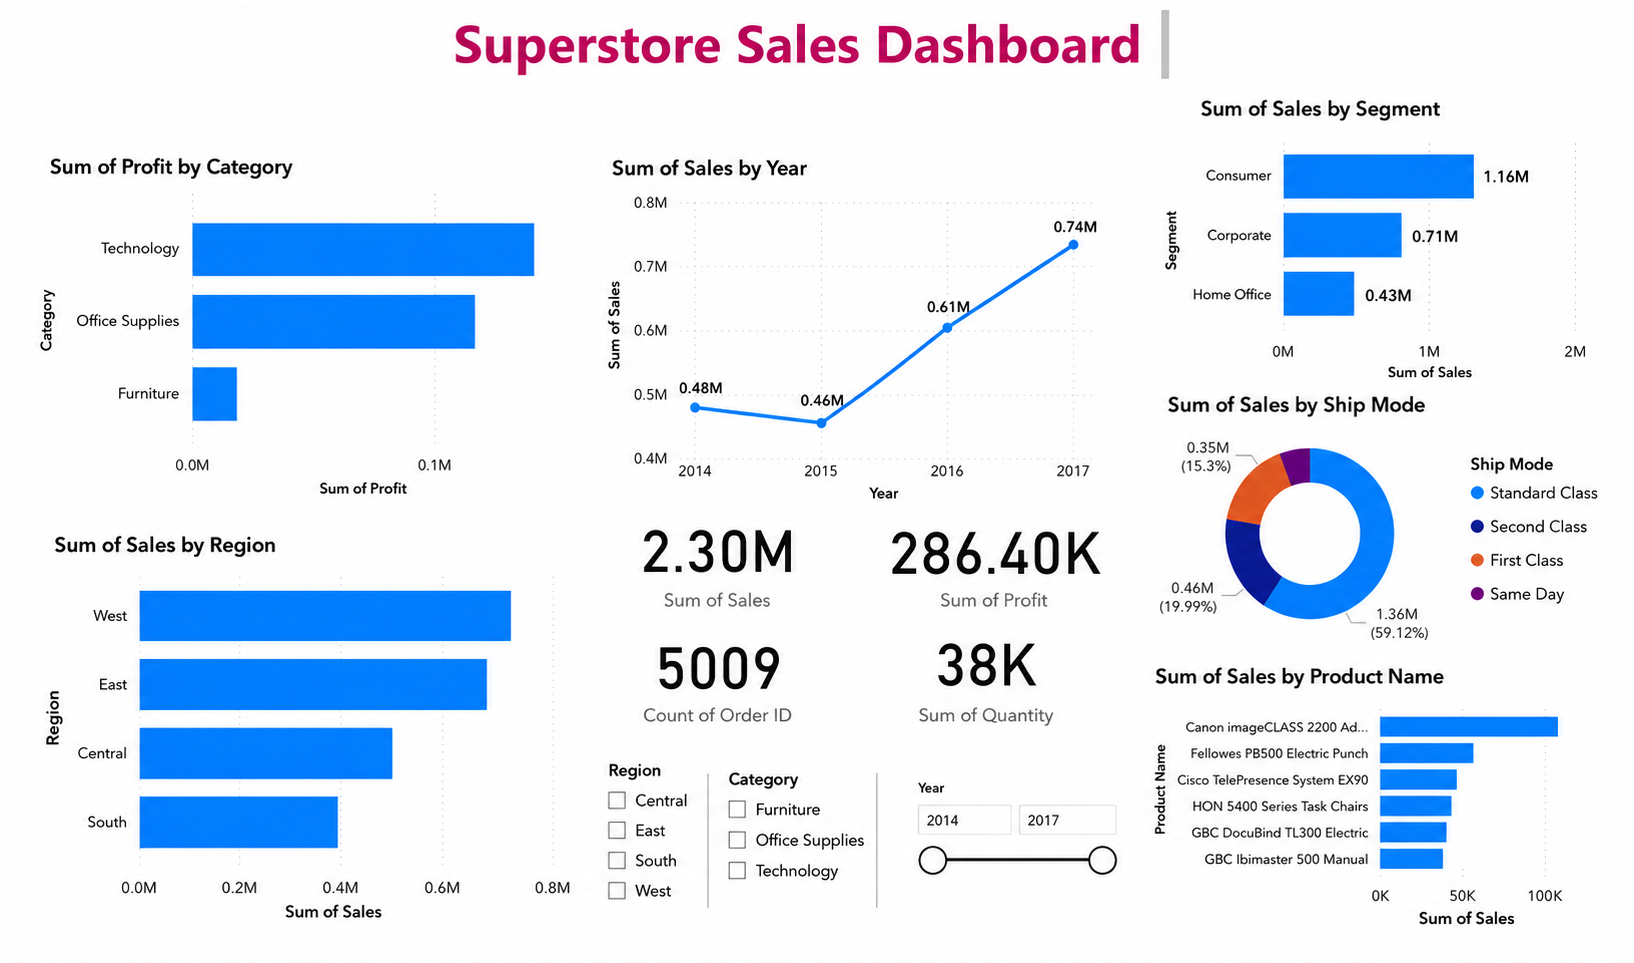

The page's visual inventory and layout, read from the dashboard file:
{"tool":"powerbi","page":{"name":"Page 1","canvas":[1280,720],"ordinal":0},"visuals":[{"type":"barChart","fields":{"Category":["Sample - Superstore.Region"],"Y":["Sum(Sample - Superstore.Sales)"]},"box":[9.6,391.1,426.8,329.3],"z":0},{"type":"barChart","fields":{"Category":["Sample - Superstore.Category"],"Y":["Sum(Sample - Superstore.Profit)"]},"box":[0,127.6,436.4,263.5],"z":1000},{"type":"lineChart","fields":{"Category":["Sample - Superstore.Order Date.Variation.Date Hierarchy.Year","Sample - Superstore.Order Date.Variation.Date Hierarchy.Quarter","Sample - Superstore.Order Date.Variation.Date Hierarchy.Month","Sample - Superstore.Order Date.Variation.Date Hierarchy.Day"],"Y":["Sum(Sample - Superstore.Sales)"]},"box":[455.6,134.5,408.9,249.7],"z":2000},{"type":"card","fields":{"Values":["Sum(Sample - Superstore.Sales)"]},"box":[455.6,370.5,179.8,100.2],"z":3000},{"type":"card","fields":{"Values":["Sum(Sample - Superstore.Profit)"]},"box":[684.7,384.2,209.9,100.2],"z":4000},{"type":"card","fields":{"Values":["Count(Sample - Superstore.Order ID)"]},"box":[474.8,470.7,168.8,105.7],"z":5000},{"type":"card","fields":{"Values":["Sum(Sample - Superstore.Quantity)"]},"box":[695.7,484.4,168.8,101.5],"z":6000},{"type":"clusteredBarChart","fields":{"Category":["Sample - Superstore.Segment"],"Y":["Sum(Sample - Superstore.Sales)"]},"box":[916.6,57.6,363.6,237.4],"z":7000},{"type":"donutChart","fields":{"Category":["Sample - Superstore.Ship Mode"],"Y":["Sum(Sample - Superstore.Sales)"]},"box":[916.6,295,363.6,218.2],"z":8000},{"type":"clusteredBarChart","fields":{"Category":["Sample - Superstore.Product Name"],"Y":["Sum(Sample - Superstore.Sales)"]},"box":[907,509.1,373.2,211.3],"z":9000},{"type":"textbox","box":[377.4,6.9,517.3,65.9],"z":10000},{"type":"slicer","fields":{"Values":["Sample - Superstore.Region"]},"box":[446,576.3,100.2,144.1],"z":11000},{"type":"slicer","fields":{"Values":["Sample - Superstore.Category"]},"box":[546.1,592.8,159.2,113.9],"z":12000},{"type":"slicer","fields":{"Values":["Sample - Superstore.Order Date.Variation.Date Hierarchy.Year"]},"box":[705.3,605.1,186.6,90.6],"z":13000},{"type":"qnaVisual","box":[119.4,0,258,12.3],"z":14000}]}

Visuals, with their boxes on the page's 1280x720 design canvas (x1, y1, x2, y2). These are canvas units, not pixel positions in the 1634x963 screenshot, which may show the page scaled, cropped or inside an application window:
barChart - Sample - Superstore.Region x Sum(Sample - Superstore.Sales): rect(10, 391, 436, 720)
barChart - Sample - Superstore.Category x Sum(Sample - Superstore.Profit): rect(0, 128, 436, 391)
lineChart - Sample - Superstore.Order Date.Variation.Date Hierarchy.Year x Sample - Superstore.Order Date.Variation.Date Hierarchy.Quarter: rect(456, 134, 864, 384)
card - Sum(Sample - Superstore.Sales): rect(456, 370, 635, 471)
card - Sum(Sample - Superstore.Profit): rect(685, 384, 895, 484)
card - Count(Sample - Superstore.Order ID): rect(475, 471, 644, 576)
card - Sum(Sample - Superstore.Quantity): rect(696, 484, 864, 586)
clusteredBarChart - Sample - Superstore.Segment x Sum(Sample - Superstore.Sales): rect(917, 58, 1280, 295)
donutChart - Sample - Superstore.Ship Mode x Sum(Sample - Superstore.Sales): rect(917, 295, 1280, 513)
clusteredBarChart - Sample - Superstore.Product Name x Sum(Sample - Superstore.Sales): rect(907, 509, 1280, 720)
textbox: rect(377, 7, 895, 73)
slicer - Sample - Superstore.Region: rect(446, 576, 546, 720)
slicer - Sample - Superstore.Category: rect(546, 593, 705, 707)
slicer - Sample - Superstore.Order Date.Variation.Date Hierarchy.Year: rect(705, 605, 892, 696)
qnaVisual: rect(119, 0, 377, 12)
